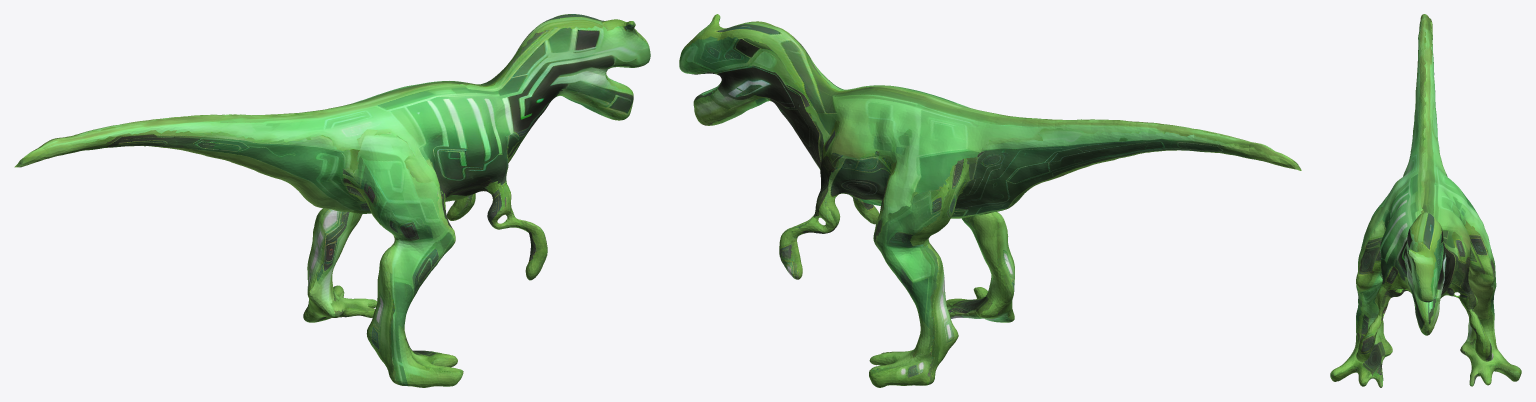
File: textured_paint3d.glb
3 renders of one model, left to right at view 1: azimuth 30°, elevation 25°; view 2: azimuth 150°, elevation 25°; view 3: azimuth 270°, elevation 25°, orthographic. The views are drawn at different scales.
Parts seen in each view (by area): view 1: Node-Mesh; view 2: Node-Mesh; view 3: Node-Mesh.
Part boxes in pixels (bbox=[...]): Node-Mesh: bbox=[14, 14, 650, 387]; Node-Mesh: bbox=[679, 14, 1301, 387]; Node-Mesh: bbox=[1330, 14, 1521, 387].
Bounding box in the file's own units: 2 × 0.8734 × 0.653.
1 material, 1 textured.
